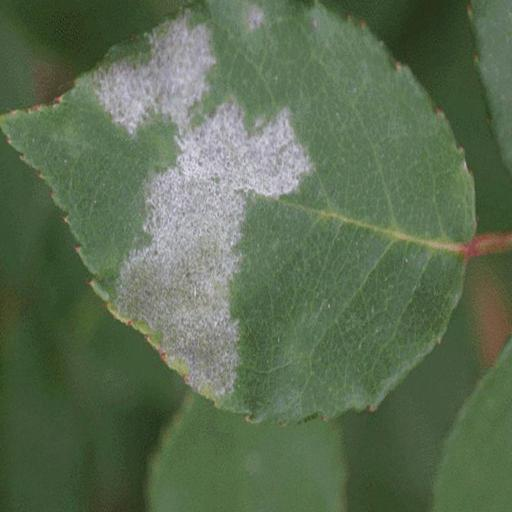powdery_mildew: (1, 0, 475, 420)
